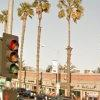Tree: (53, 1, 83, 74)
